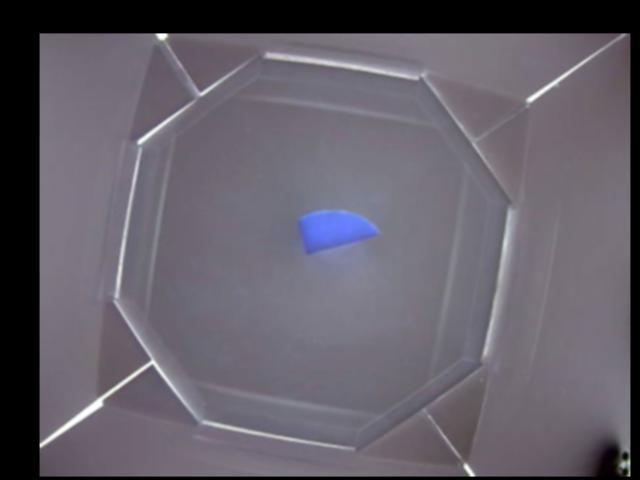Potato: (297, 211, 375, 256)
